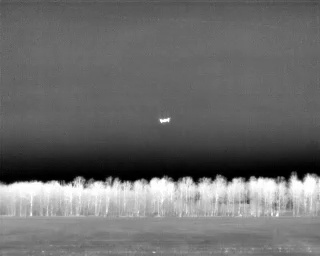DRONE: (155, 112, 175, 129)
